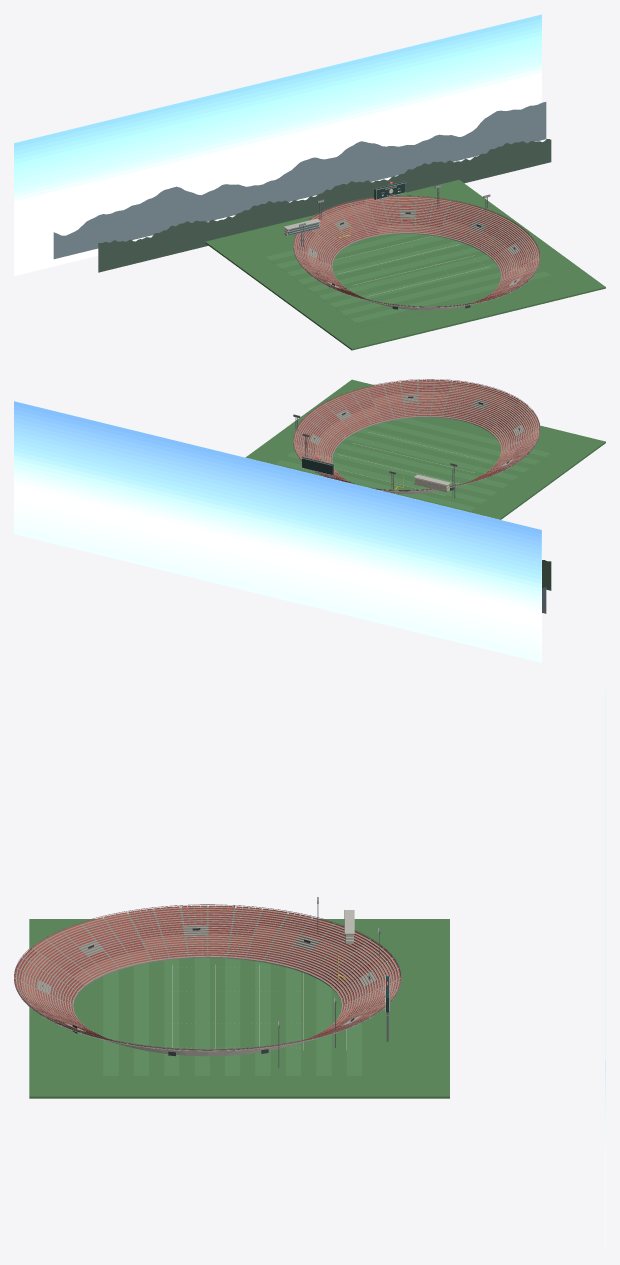
File: venue-rose-bowl.fbx
3 renders of one model, top to bottom at view 1: azimuth 30°, elevation 25°; view 2: azimuth 150°, elevation 25°; view 3: azimuth 270°, elevation 25°, orthographic. The views are drawn at different scales.
Parts seen in each view (by area): view 1: VenueRoseBowl; view 2: VenueRoseBowl; view 3: VenueRoseBowl.
Part boxes in pixels (x1,y1,x2,y2): VenueRoseBowl: [14, 14, 605, 350]; VenueRoseBowl: [14, 379, 605, 662]; VenueRoseBowl: [14, 691, 605, 1250].
Size of the model in its own units: 54 by 36.58 by 13.
